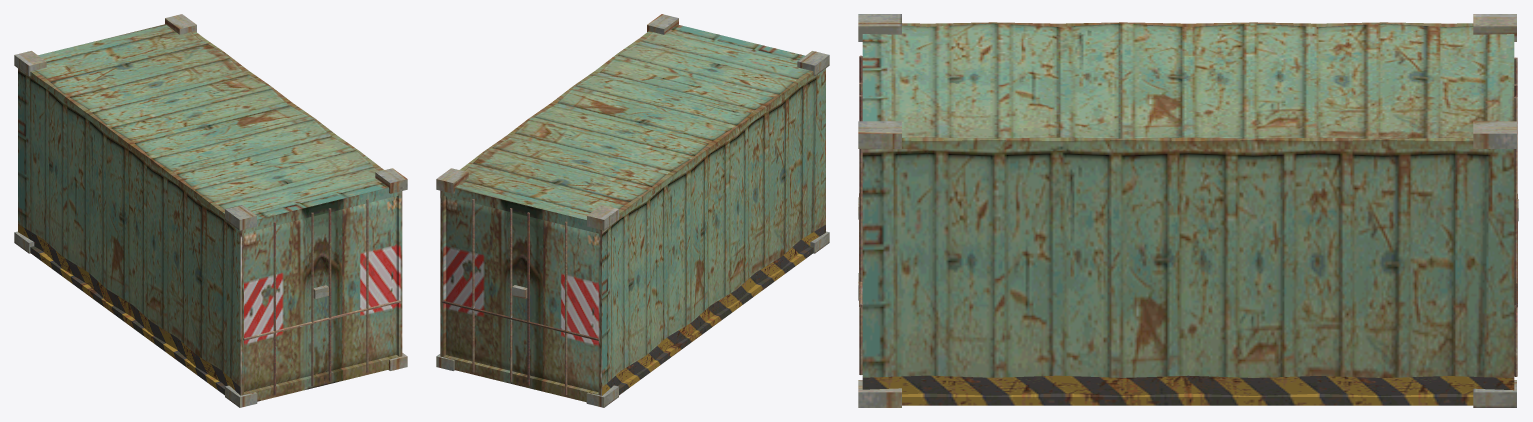
Rendered from Container2_SM.fbx.
The picture shows the model from 3 angles, left to right: view 1: azimuth 30°, elevation 25°; view 2: azimuth 150°, elevation 25°; view 3: azimuth 270°, elevation 25°; orthographic projection. The views are drawn at different scales.
Visible parts, largest first — view 1: Box003; view 2: Box003; view 3: Box003.
Part boxes in pixels (bbox=[...]): Box003: bbox=[14, 14, 407, 407]; Box003: bbox=[436, 14, 829, 407]; Box003: bbox=[858, 14, 1518, 407].
Bounding box in the file's own units: 238 × 255 × 556.
